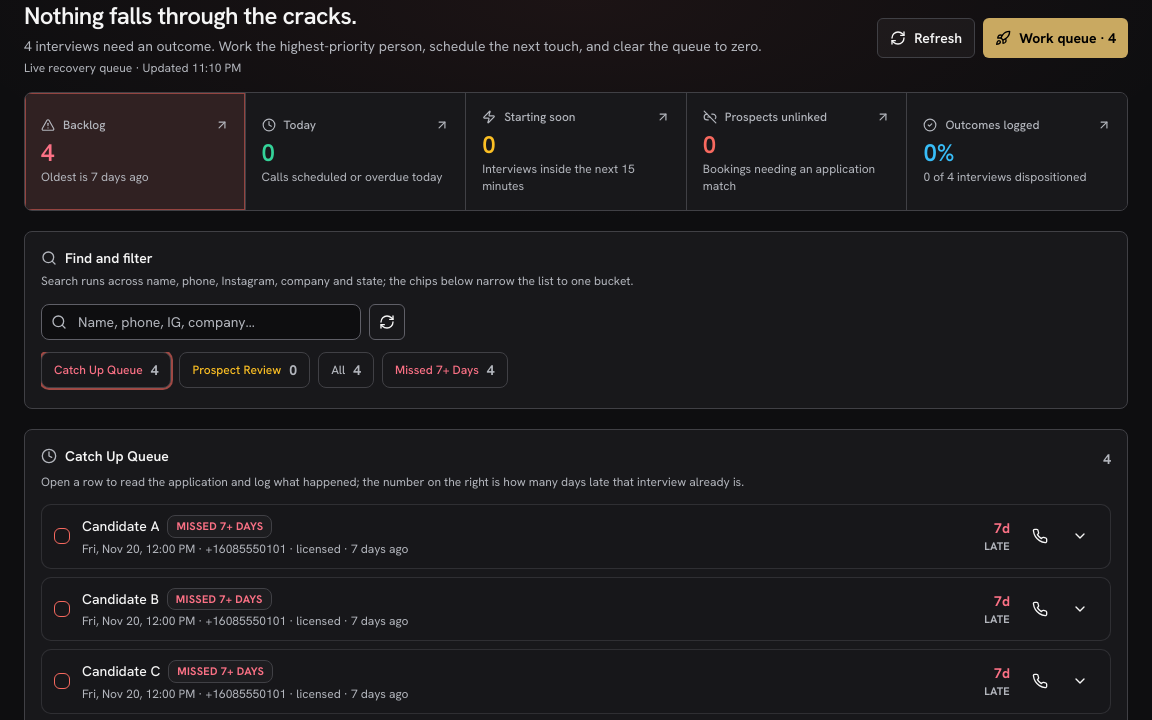
Scenario: interview recovery handoffs › holds the selected identity when polling changes priority order
Click the button "Work queue · 4".
click(1056, 38)  # box [983,18,1128,58]
(page scrolled)
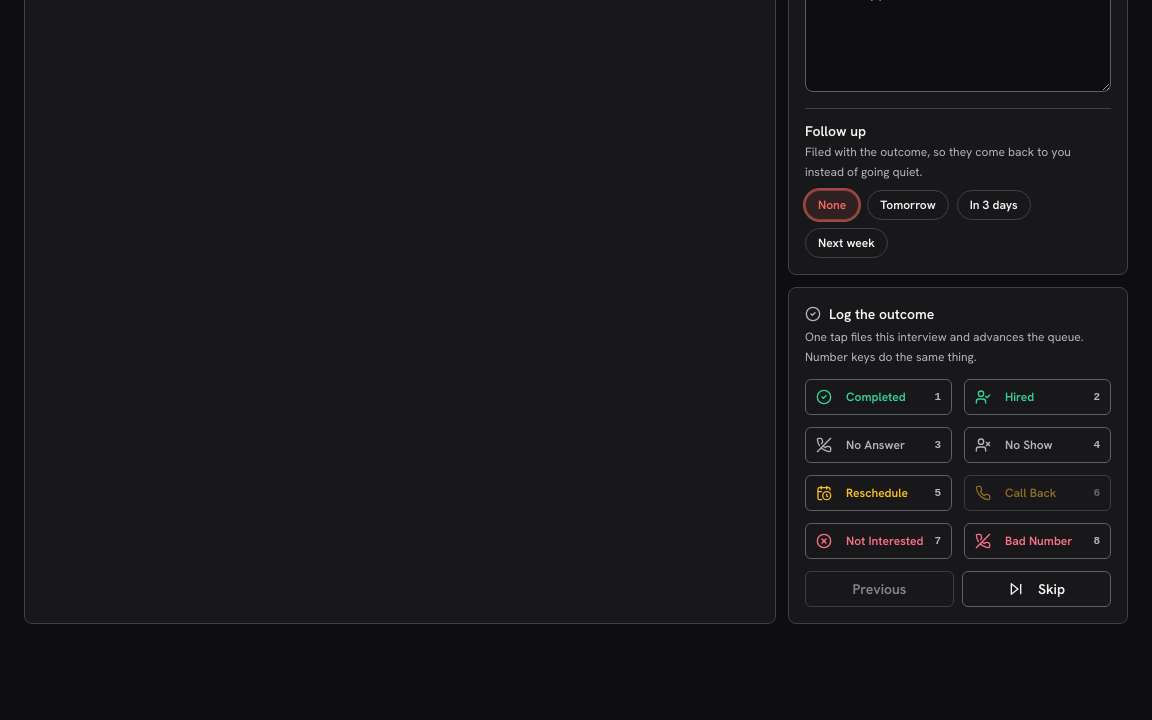
Click the button with aria-label "Skip to next candidate".
click(1036, 589)  # box [962,571,1111,607]
(page scrolled)
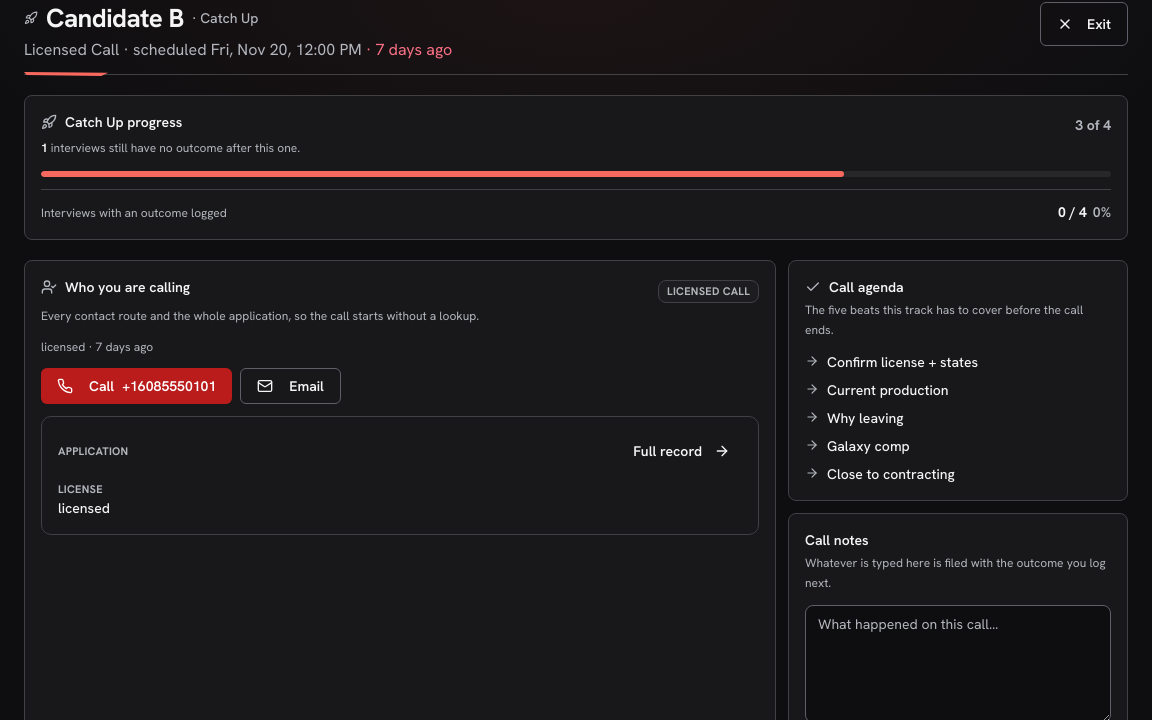
Expected: the heading "Candidate B" is shown, [46,2,184,34]
